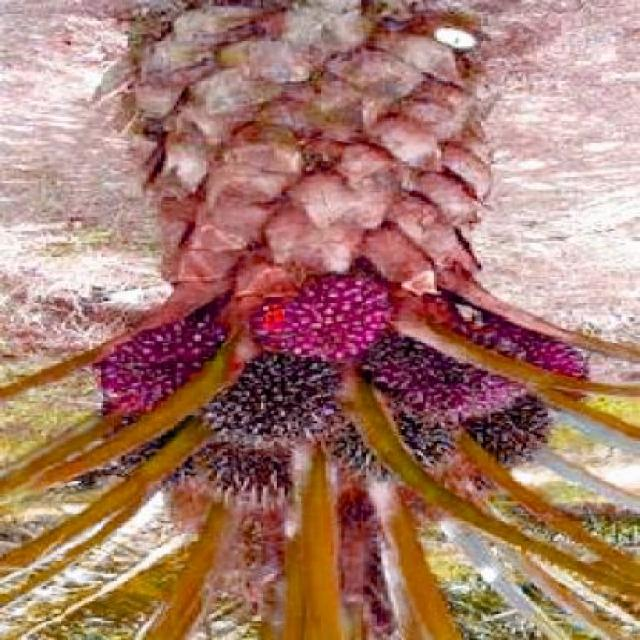palm-oil: (379, 301, 593, 412), (250, 261, 397, 352), (111, 313, 229, 418), (206, 348, 337, 440), (317, 401, 455, 483), (189, 439, 319, 515), (464, 386, 548, 465)
